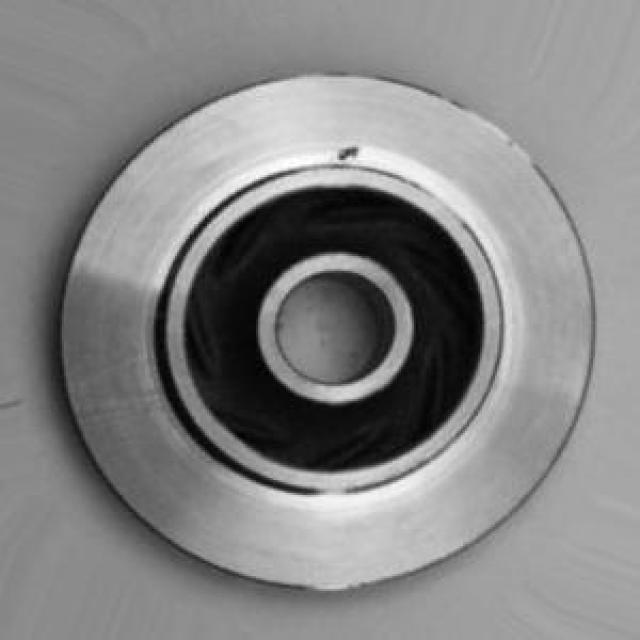Defect: (328, 141, 374, 170)
